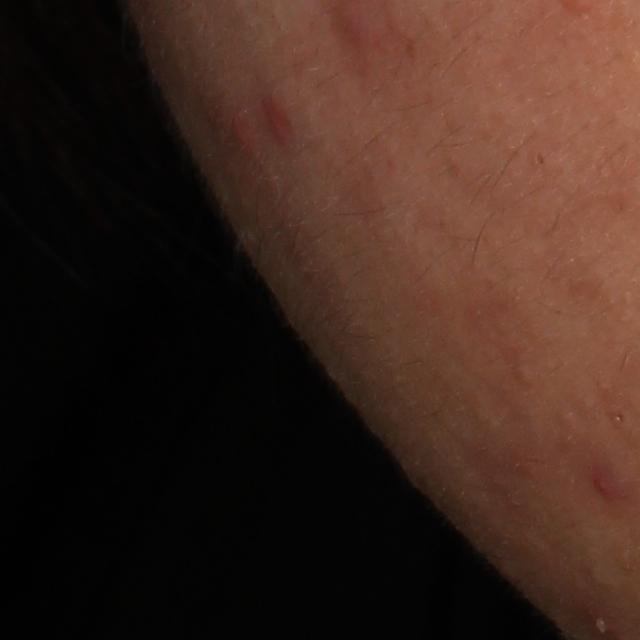comedo: (532, 150, 546, 170), (611, 413, 626, 425)
papule: (339, 1, 381, 53), (261, 99, 295, 147), (230, 113, 261, 163), (594, 475, 617, 502)
